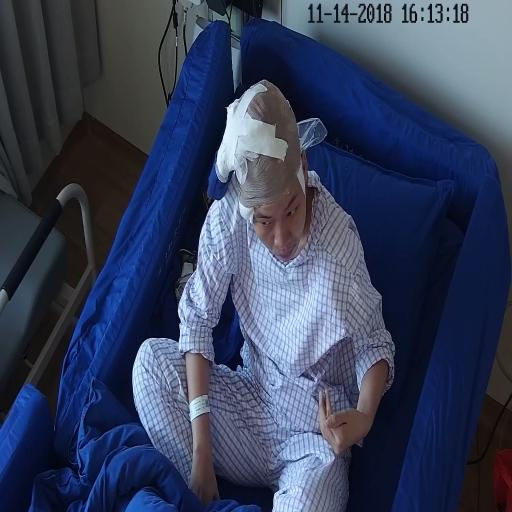Seizure: (237, 127, 312, 263)
